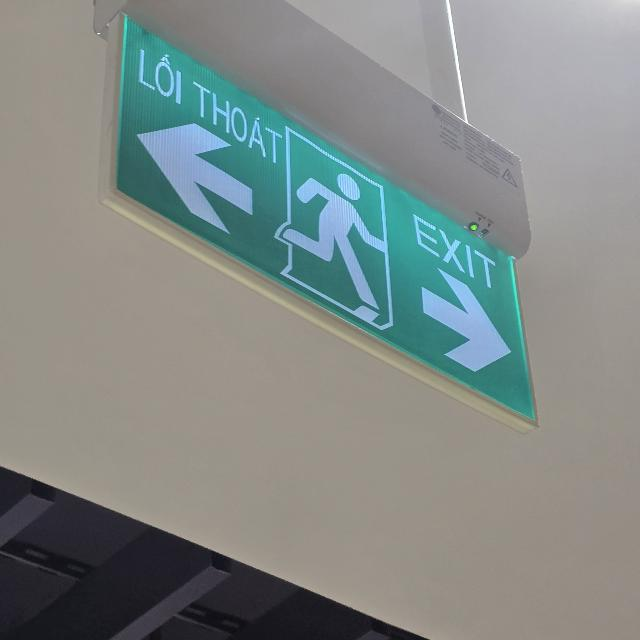exit: (115, 18, 536, 419)
